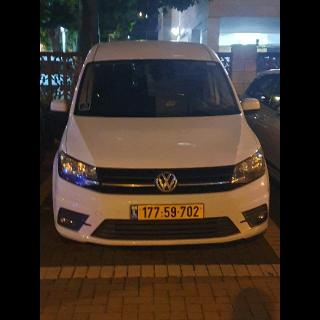LicensePlate: (138, 204, 204, 220)
